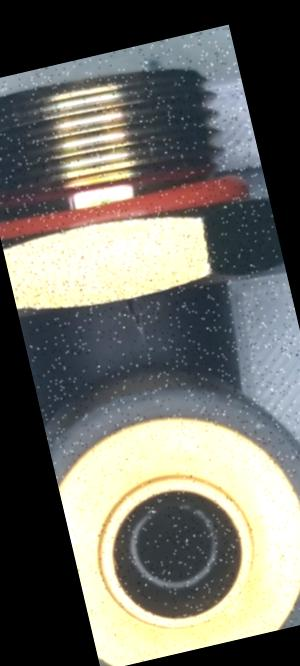craze: (120, 290, 147, 332)
